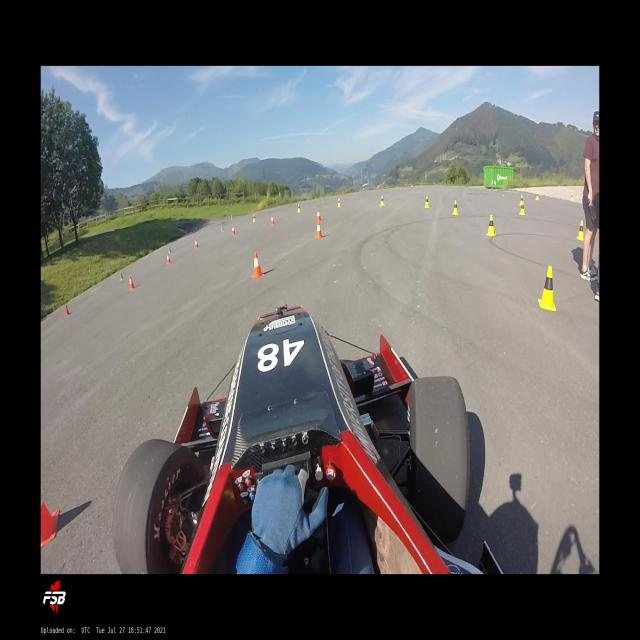orange_cone: (253, 252, 264, 279), (316, 220, 322, 239), (130, 276, 134, 289), (167, 254, 171, 264), (317, 210, 321, 220), (271, 215, 275, 224), (195, 239, 198, 248), (232, 226, 235, 234)
unknown_cone: (66, 305, 70, 316), (120, 271, 124, 280), (221, 224, 224, 232), (168, 245, 171, 252)
yellow_cone: (538, 266, 556, 311), (486, 214, 496, 237), (576, 220, 584, 240), (452, 200, 459, 215), (519, 201, 526, 215), (424, 195, 430, 207), (380, 195, 385, 206), (519, 195, 524, 205), (338, 198, 342, 208), (253, 214, 256, 222), (536, 192, 539, 200), (298, 204, 300, 212), (571, 193, 573, 201)
